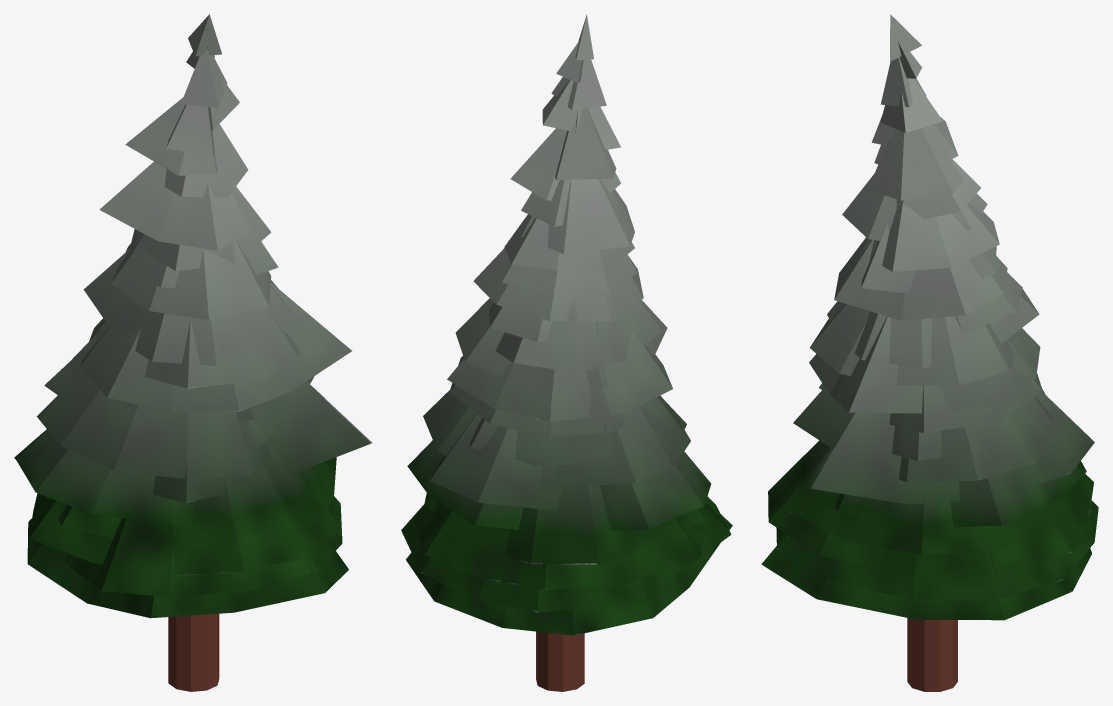
The model's file is MediumSpineTree.fbx.
3 renders of one model, left to right at view 1: azimuth 30°, elevation 25°; view 2: azimuth 150°, elevation 25°; view 3: azimuth 270°, elevation 25°, orthographic. The views are drawn at different scales.
Parts seen in each view (by area): view 1: Cylinder.005; view 2: Cylinder.005; view 3: Cylinder.005.
Boxes of the visible parts, x1,y1,x2,y2 form: Cylinder.005: (14,14,372,691); Cylinder.005: (401,14,732,691); Cylinder.005: (761,14,1098,691).
Size of the model in its own units: 2.36 by 5.26 by 2.42.
Materials: 1 (1 with a texture image).
